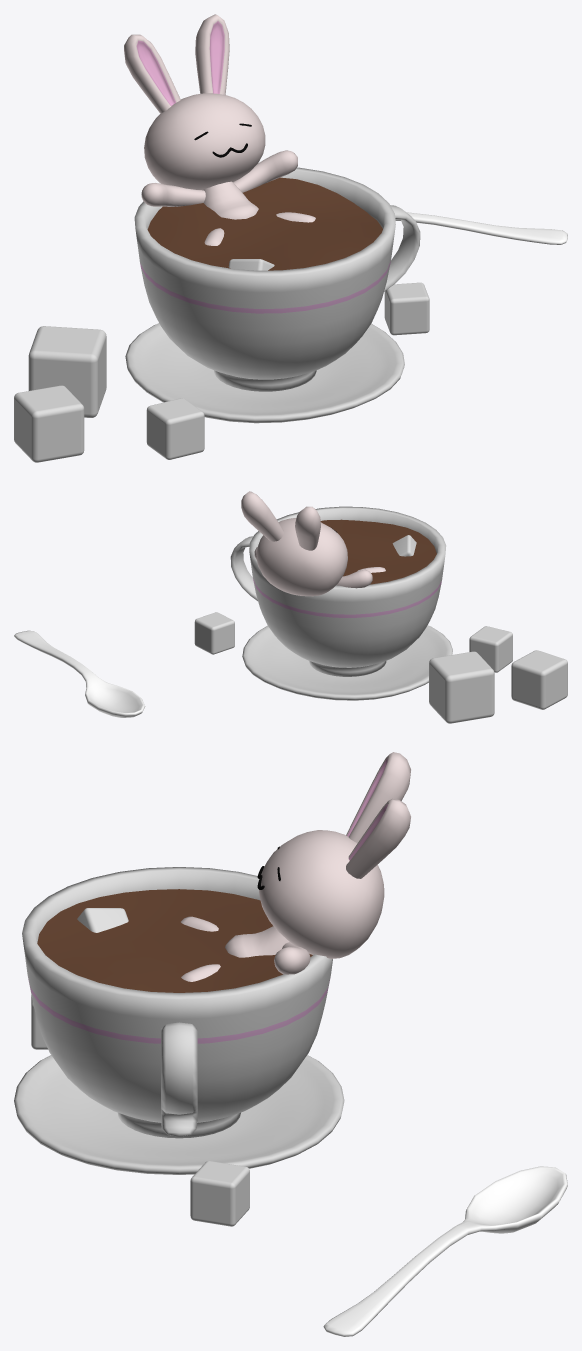
File: sugar_cubes.glb
3 views of the same model, one above another, from view 1: azimuth 30°, elevation 25°; view 2: azimuth 150°, elevation 25°; view 3: azimuth 270°, elevation 25° (orthographic). The views are drawn at different scales.
Parts seen in each view (by area): view 1: Plane.001, Cube.004, Plane, Coffee, Cube.006, Cube.007, Cube.005, Cube.008, Plane.005, Plane.002; view 2: Plane.001, Cube.004, Plane, Coffee, Cube.006, Cube.007, Plane.005, Cube.005, Cube.008, Plane.002, Cube.002; view 3: Plane.001, Cube.004, Plane, Coffee, Plane.005, Plane.002, Cube.008, Cube.002.
Part boxes in pixels (<box>): Plane.001: <box>134,167,395,391</box>; Cube.004: <box>124,14,315,245</box>; Plane: <box>125,323,404,423</box>; Coffee: <box>147,177,382,270</box>; Cube.006: <box>28,326,106,417</box>; Cube.007: <box>14,385,84,462</box>; Cube.005: <box>146,398,204,459</box>; Cube.008: <box>384,282,429,335</box>; Plane.005: <box>395,212,567,244</box>; Plane.002: <box>384,205,420,291</box>; Plane.001: <box>249,506,446,676</box>; Cube.004: <box>241,491,385,596</box>; Plane: <box>242,625,452,700</box>; Coffee: <box>320,519,436,584</box>; Cube.006: <box>429,651,494,723</box>; Cube.007: <box>511,650,567,709</box>; Plane.005: <box>14,630,145,717</box>; Cube.005: <box>469,626,512,672</box>; Cube.008: <box>194,612,234,654</box>; Plane.002: <box>230,536,257,601</box>; Cube.002: <box>392,535,416,556</box>; Plane.001: <box>22,867,332,1138</box>; Cube.004: <box>181,752,410,981</box>; Plane: <box>14,1055,344,1174</box>; Coffee: <box>37,889,312,992</box>; Plane.005: <box>323,1166,567,1336</box>; Plane.002: <box>161,1022,197,1136</box>; Cube.008: <box>190,1161,249,1226</box>; Cube.002: <box>77,908,128,932</box>.
Bounding box in the file's own units: 3.46 × 1.51 × 2.18.
